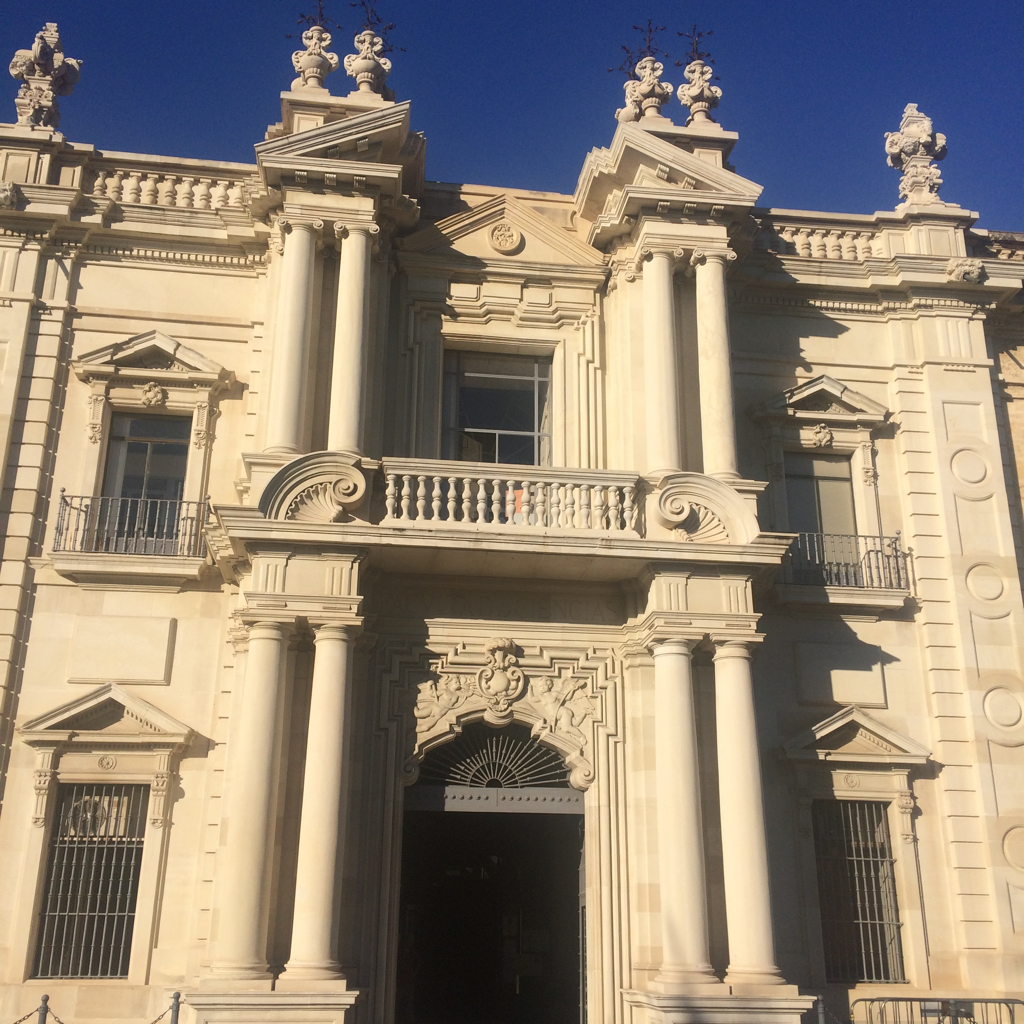fronton: (394, 193, 614, 279), (18, 680, 201, 753), (66, 329, 233, 396), (776, 704, 933, 770), (750, 370, 892, 429)
fronton-partido: (252, 89, 764, 212), (254, 448, 765, 564)
vano-adintelado: (1, 772, 180, 986), (423, 322, 569, 534), (797, 787, 923, 986), (69, 397, 204, 564), (774, 434, 890, 587)
